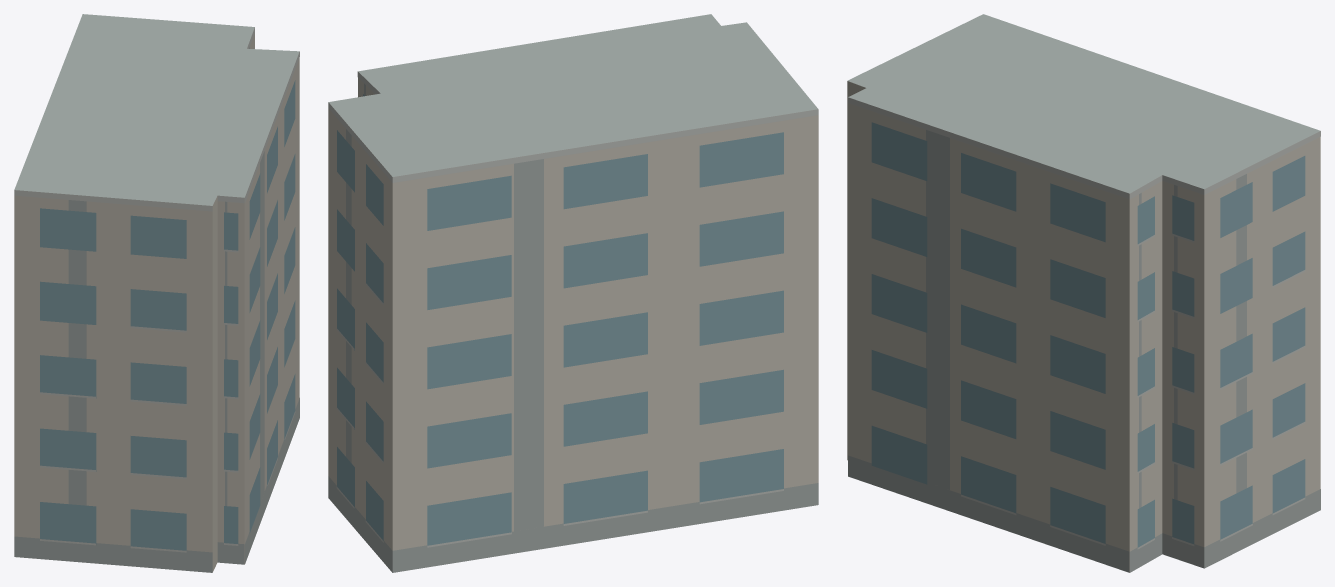
File: survey-upis-33010017.glb
The picture shows the model from 3 angles, left to right: view 1: azimuth 30°, elevation 25°; view 2: azimuth 150°, elevation 25°; view 3: azimuth 270°, elevation 25°; orthographic projection. The views are drawn at different scales.
Parts seen in each view (by area): view 1: survey-upis-33010017.tmp; view 2: survey-upis-33010017.tmp; view 3: survey-upis-33010017.tmp.
Boxes of the visible parts, <box> form: survey-upis-33010017.tmp: <box>14,14,299,572</box>; survey-upis-33010017.tmp: <box>328,14,818,572</box>; survey-upis-33010017.tmp: <box>847,14,1320,572</box>.
Size of the model in its own units: 16.47 by 16.2 by 18.35.
